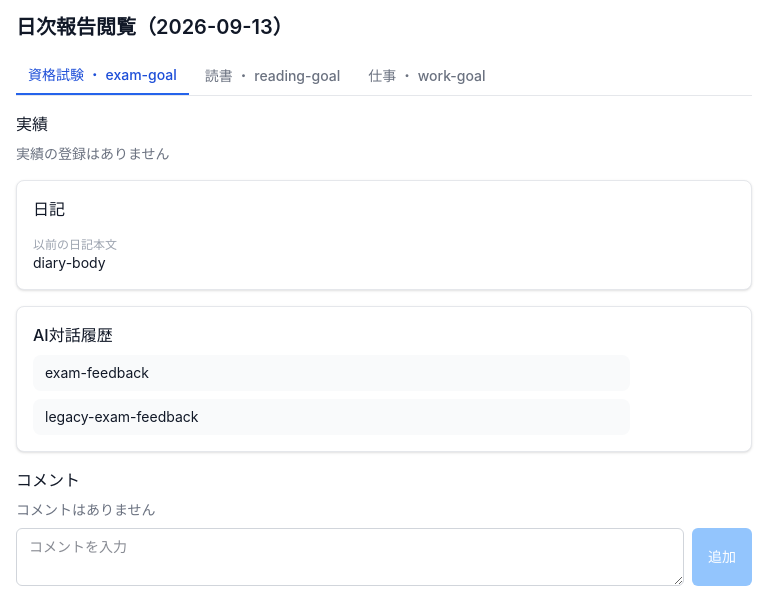
Test: DailyReportViewPage › narrows the visible section to the selected tab
Expected: the heading "実績" is shown, x1=16 y1=114 x2=48 y2=134
Expected: the text "想起の記録" is not shown
Click the button "読書 ・ reading-goal" at (272, 76), box x1=193 y1=57 x2=352 y2=95
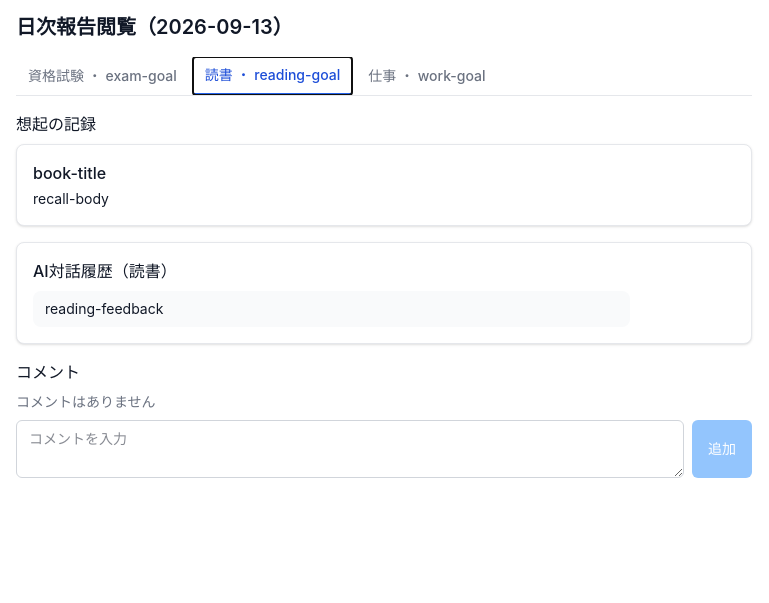
Expected: the text "業務内容の記録" is not shown
Result: the heading "想起の記録" is shown at x1=16 y1=114 x2=96 y2=134
Result: the heading "実績" is gone
Click the button "仕事 ・ work-goal" at (427, 76), box x1=356 y1=57 x2=498 y2=95
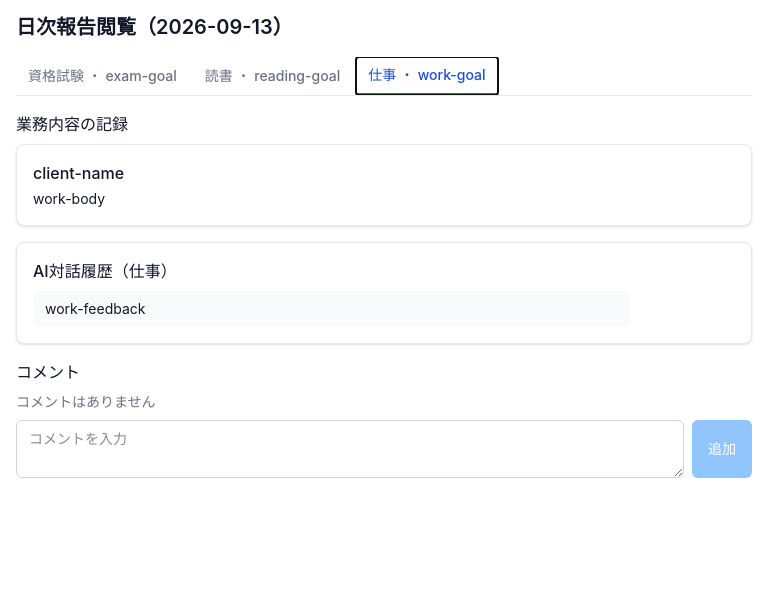
Result: the heading "業務内容の記録" is shown at x1=16 y1=114 x2=128 y2=134
Result: the heading "想起の記録" is gone
